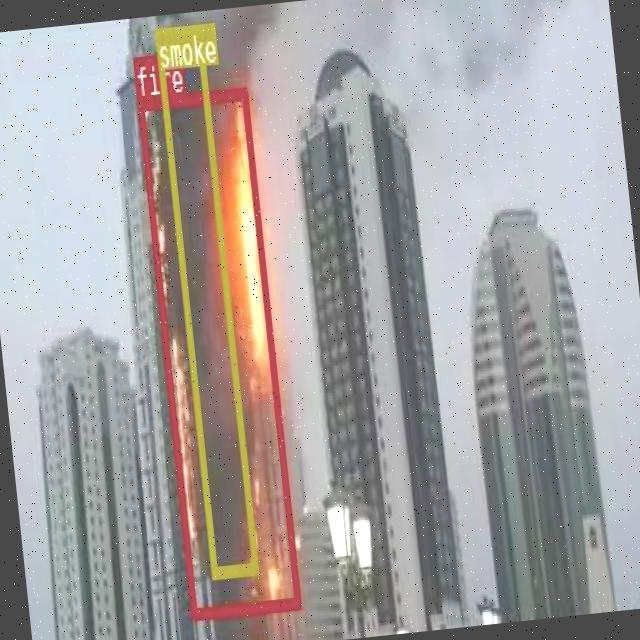fire: (136, 85, 298, 617)
smoke: (153, 22, 256, 576)
